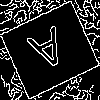A: (25, 25, 74, 82)
